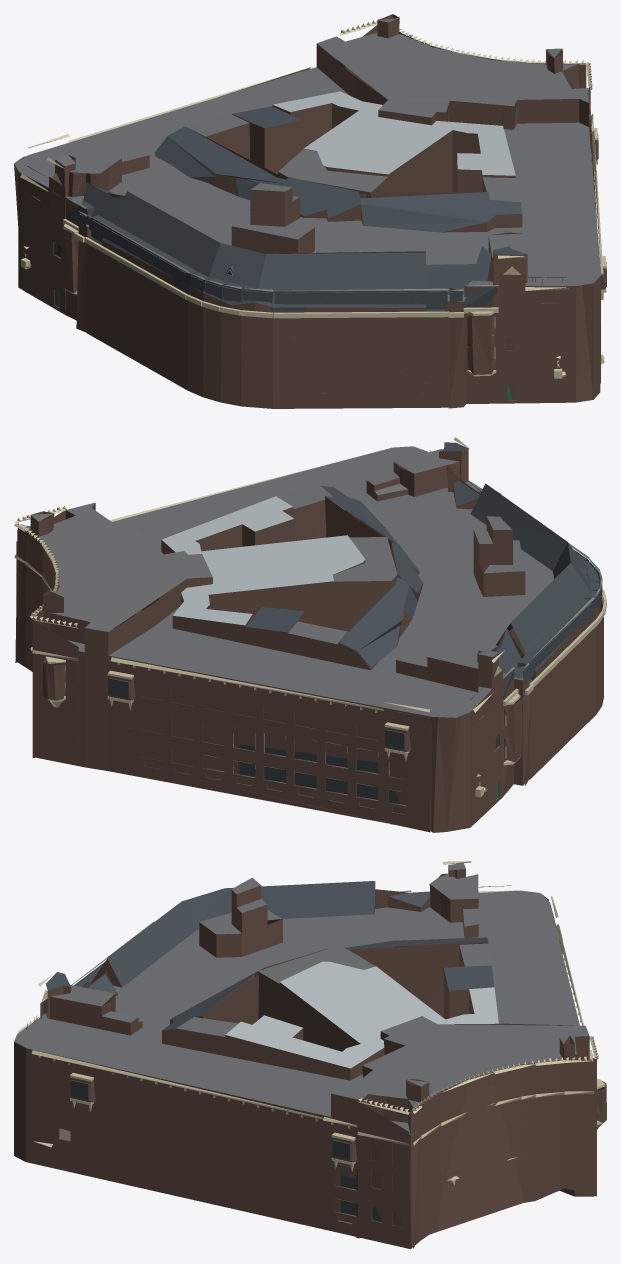
Rendered from het-sieraad.lod1.glb.
3 views of the same model, one above another, from view 1: azimuth 30°, elevation 25°; view 2: azimuth 150°, elevation 25°; view 3: azimuth 270°, elevation 25° (orthographic).
Parts seen in each view (by area): view 1: het-sieraad; view 2: het-sieraad; view 3: het-sieraad.
Part boxes in pixels (x1,y1,x2,y2): het-sieraad: (14,14,606,408); het-sieraad: (14,437,606,832); het-sieraad: (14,861,606,1248).
Bounding box in the file's own units: 73.48 × 23.69 × 73.95.
